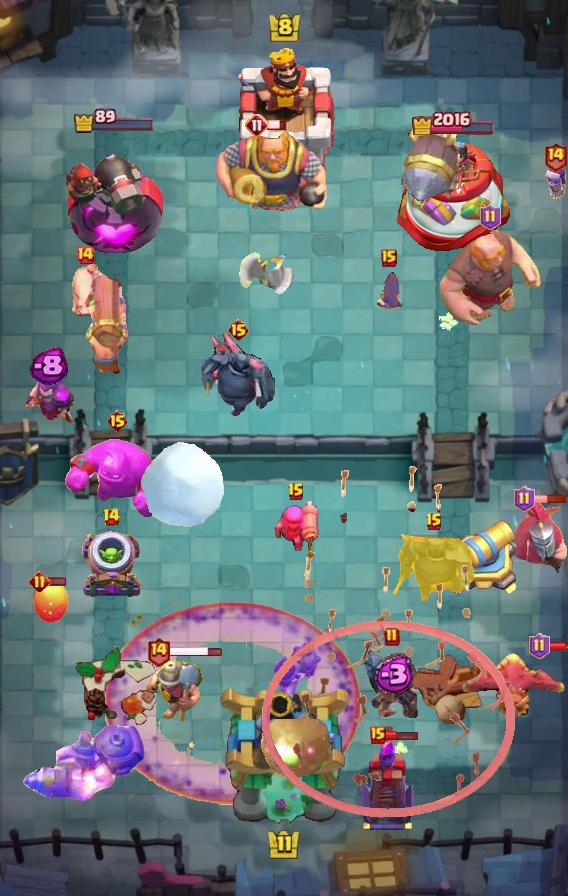balloon: (436, 228, 544, 328)
bandit: (145, 655, 207, 725)
barbarian-barrel: (372, 272, 406, 314)
battle-healer: (82, 262, 130, 376)
clone: (63, 438, 171, 520)
electro-spirit: (370, 655, 414, 693), (28, 346, 67, 385)
emote: (168, 646, 223, 659), (385, 731, 420, 742), (532, 494, 568, 504), (267, 119, 287, 131), (548, 640, 568, 652), (49, 577, 68, 588)
giant: (68, 258, 102, 320)
giant-skeleton: (213, 127, 329, 217)
goblin: (542, 165, 568, 201)
goblin-ball: (270, 637, 324, 699)
goblin-cage: (79, 530, 143, 600)
golemite: (389, 529, 479, 605), (201, 331, 275, 419)
hog: (31, 580, 71, 624)
ice-spirit-evolution-symbol: (358, 736, 418, 832)
inferno-dragon: (362, 645, 422, 721)
king-tower: (216, 684, 352, 826), (229, 43, 339, 181)
mother-witch: (460, 651, 568, 723)
queen-tower: (390, 137, 516, 255)
rascal-girl: (21, 370, 75, 428)
rocket: (105, 601, 361, 805)
royal-giant: (238, 239, 294, 297)
royal-recruit: (444, 519, 520, 599)
selected: (412, 109, 497, 136), (72, 108, 155, 134)
skeleton-barrel: (263, 465, 518, 819)
text: (544, 140, 568, 171), (146, 637, 170, 668), (245, 113, 269, 137), (479, 204, 501, 230), (226, 318, 249, 342), (106, 409, 129, 433), (513, 486, 534, 512), (529, 633, 550, 659), (30, 572, 51, 593), (75, 245, 95, 265), (102, 507, 122, 527), (287, 482, 305, 502), (425, 512, 443, 532), (384, 627, 400, 647), (381, 249, 397, 267), (370, 726, 386, 744)
tombstone: (272, 501, 320, 551)
tower-bar: (64, 138, 164, 256)
wall-breaker: (139, 441, 225, 528)
wall-breaker-evolution: (508, 497, 568, 577)
wizard: (22, 724, 146, 802)
x-bow: (391, 124, 461, 204), (250, 719, 336, 781)
